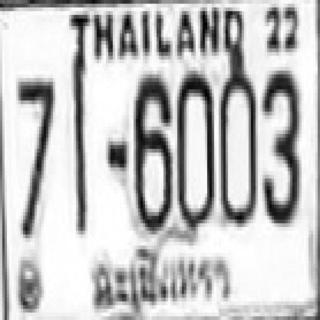N00: (176, 71, 213, 231), (219, 67, 255, 223)
N03: (259, 67, 298, 220)
N06: (134, 73, 170, 229)
N07: (16, 74, 53, 234)
P07: (89, 242, 236, 315)
